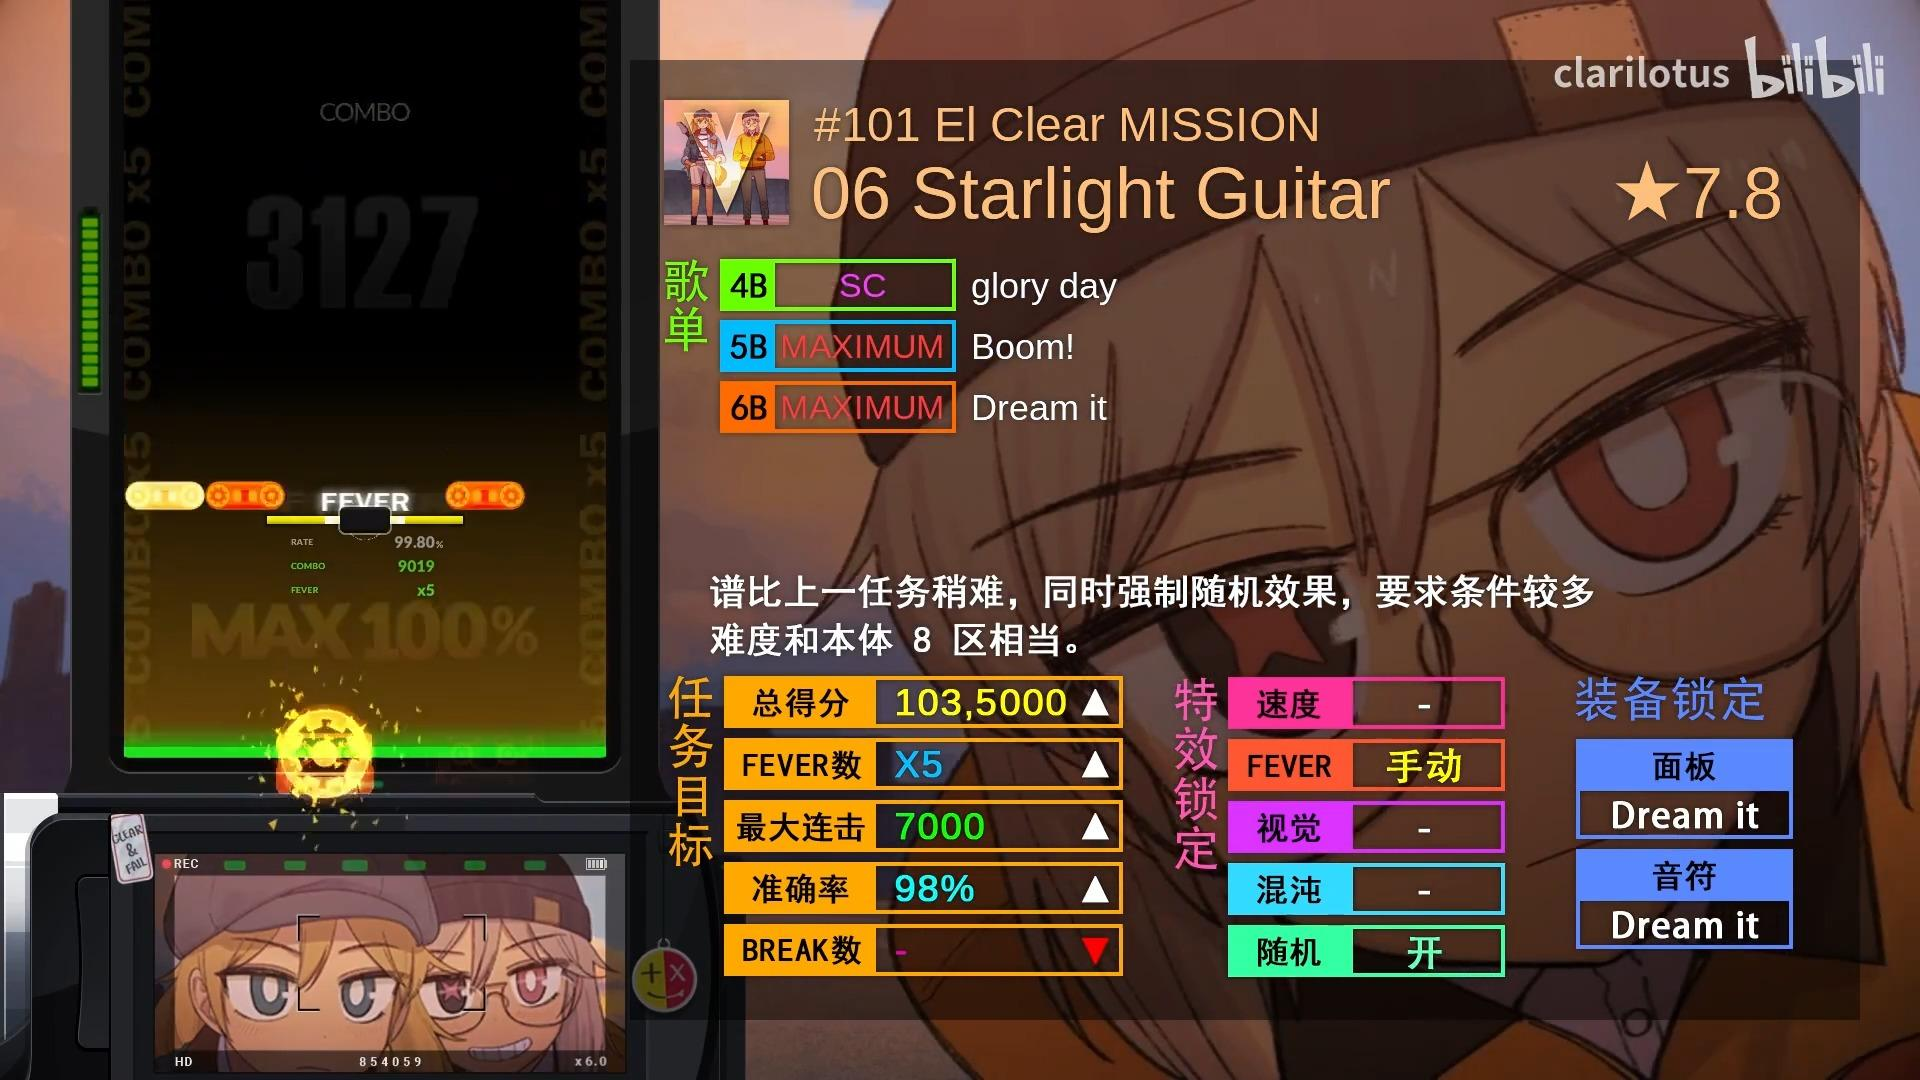note: (204, 481, 286, 512), (444, 480, 525, 510), (125, 483, 204, 510)
